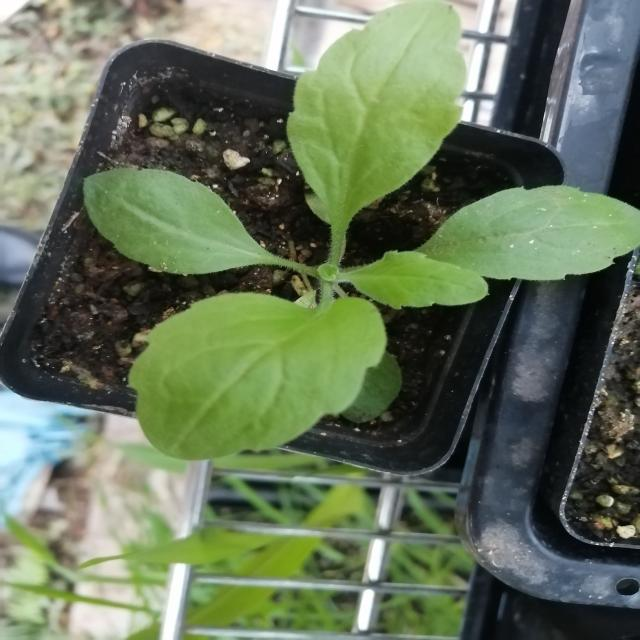horseweed: (93, 0, 632, 458)
